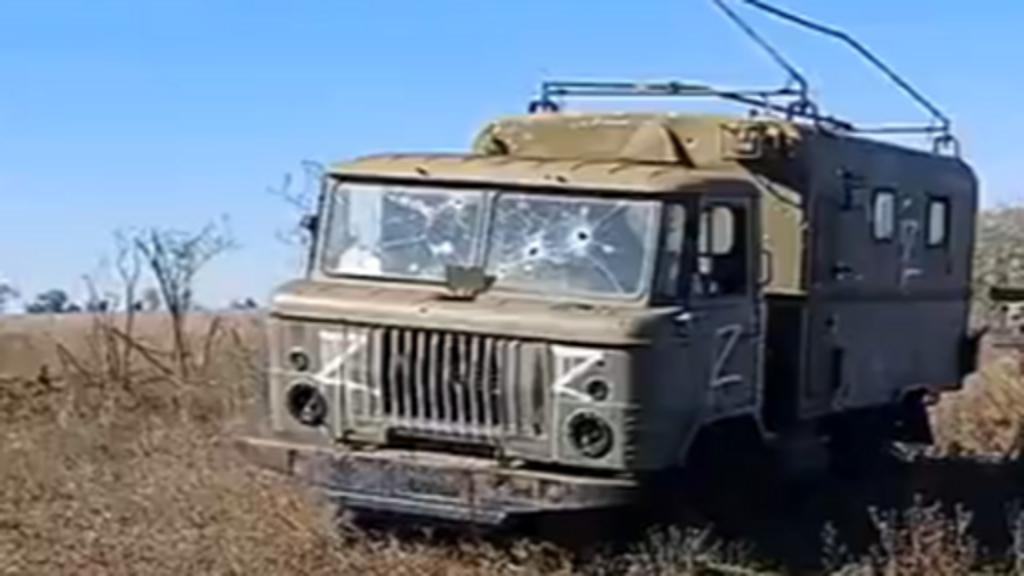TRUCK: (250, 94, 974, 556)
